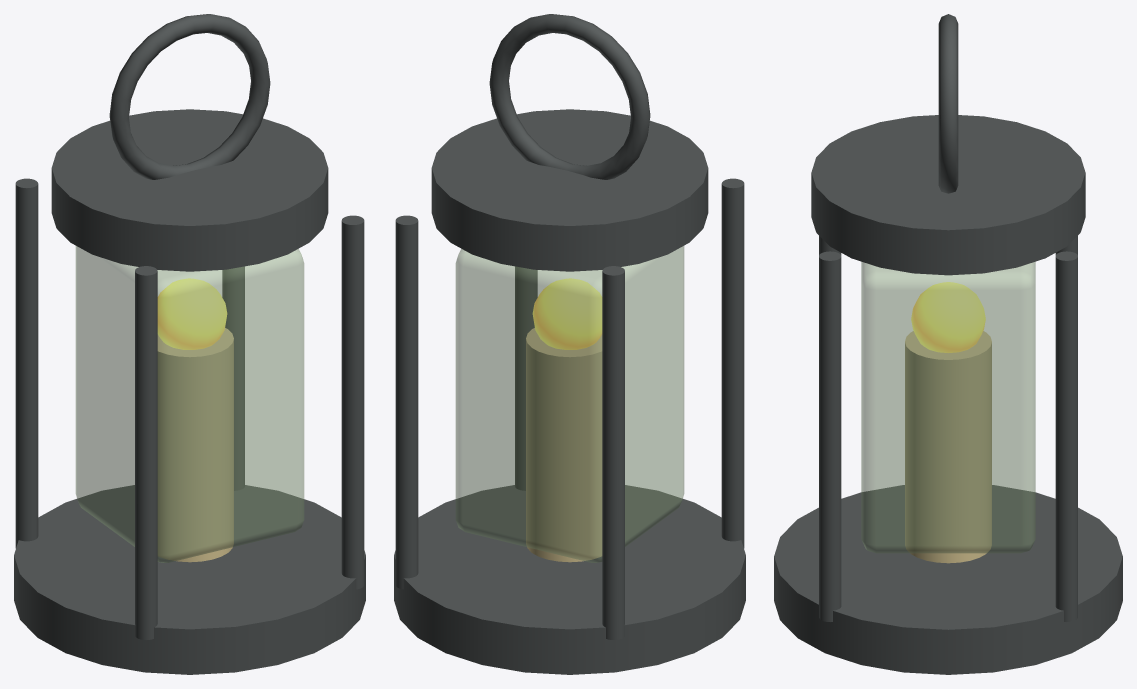
Rendered from adventurers-tavern-and-guild-hall-oil-lamp-675220e8__24733.glb.
The picture shows the model from 3 angles, left to right: view 1: azimuth 30°, elevation 25°; view 2: azimuth 150°, elevation 25°; view 3: azimuth 270°, elevation 25°; orthographic projection.
Visible parts, largest first — view 1: oil-lamp; view 2: oil-lamp; view 3: oil-lamp.
Part boxes in pixels (bbox=[...]): oil-lamp: bbox=[14, 14, 365, 674]; oil-lamp: bbox=[394, 14, 745, 674]; oil-lamp: bbox=[774, 14, 1122, 674].
Size of the model in its own units: 0.28 by 0.513 by 0.28.
